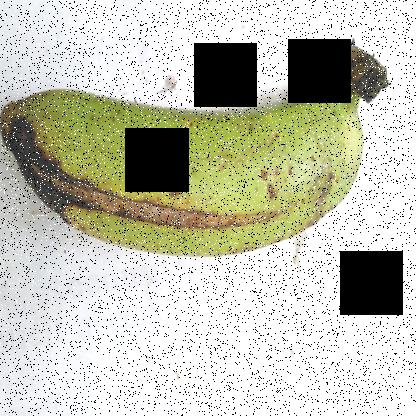rotten: (64, 168, 291, 240), (1, 98, 91, 240)
